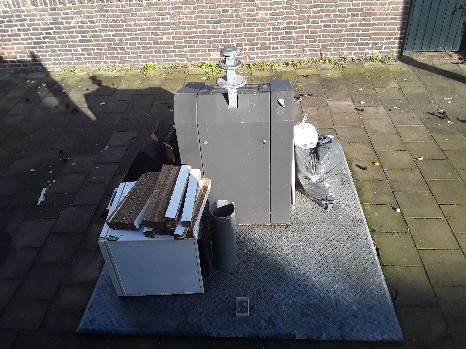Container: (180, 72, 297, 224)
Rest: (106, 173, 245, 288), (302, 121, 356, 200), (137, 128, 175, 175)
